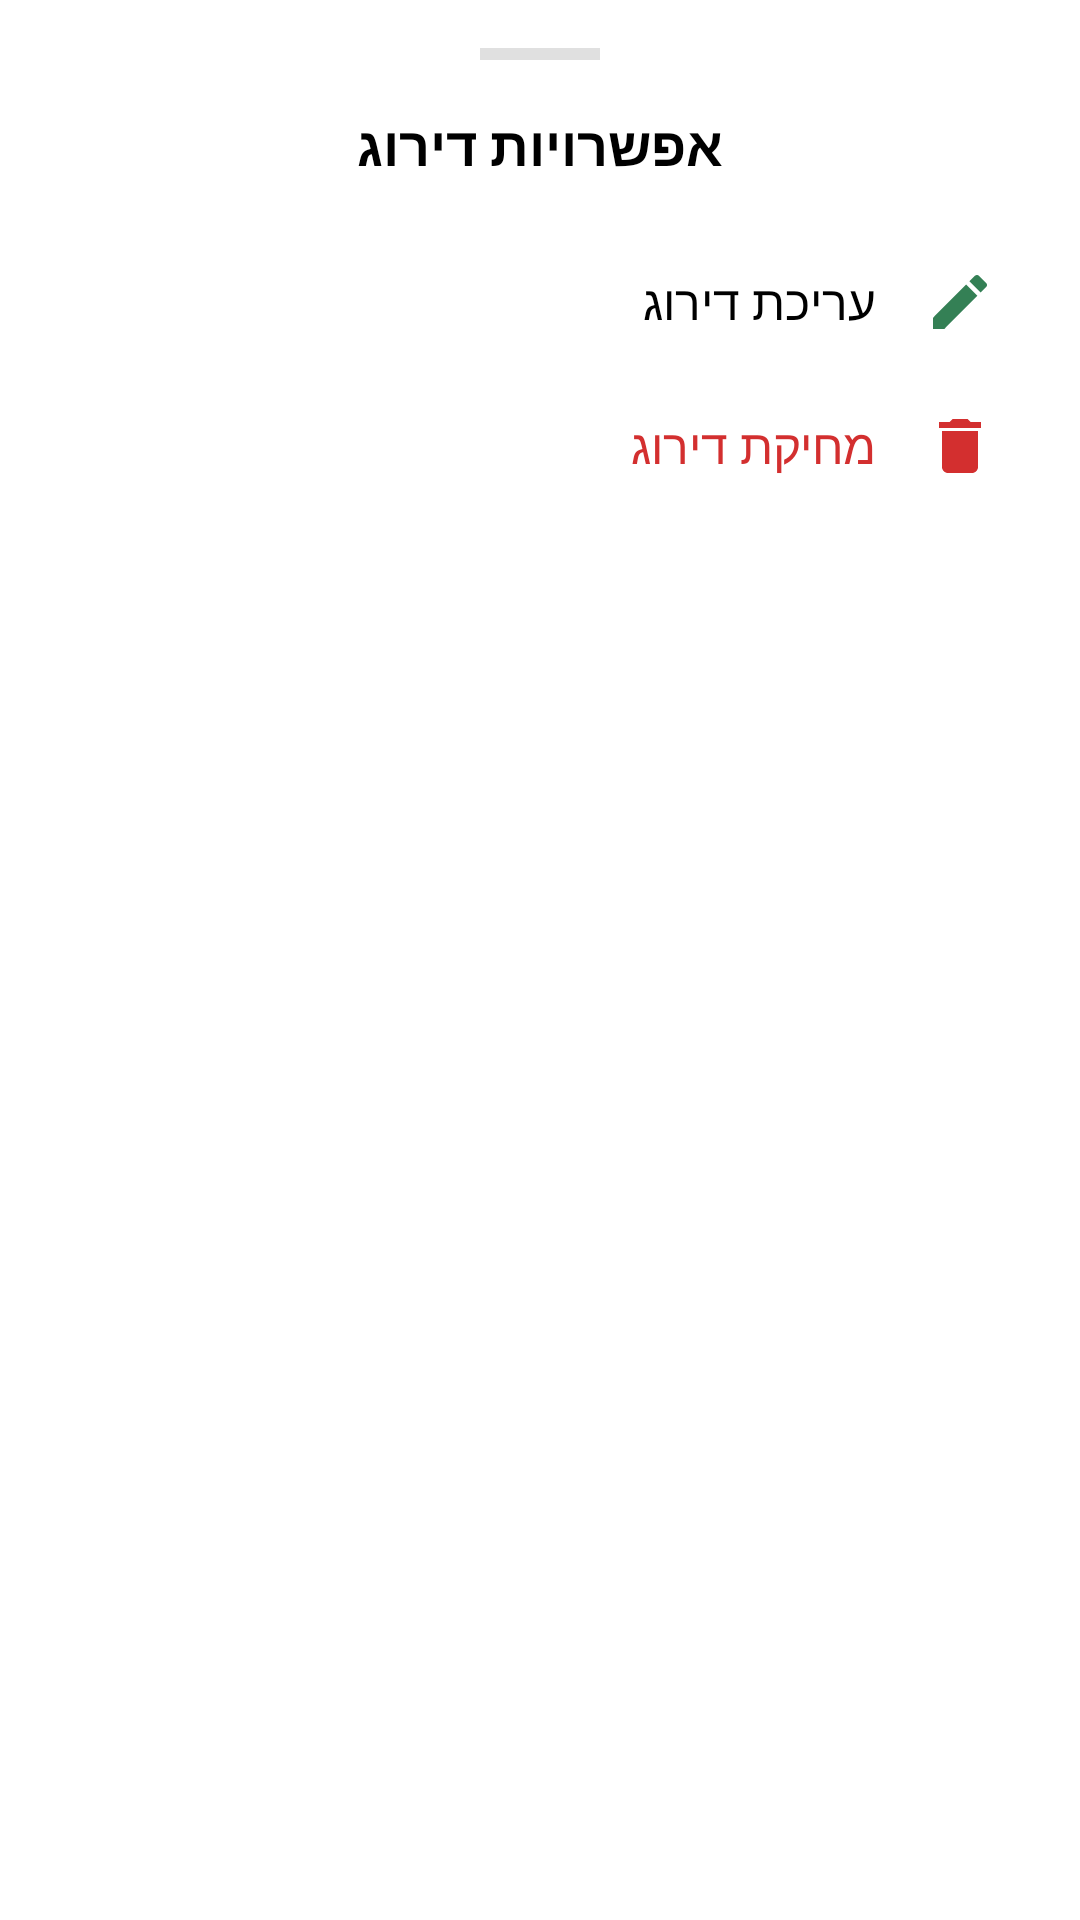

Icon bounding boxes for this 1080px x 1920px phone screenshot, format (x1, y1, x2, y2):
delete: (939, 419, 981, 473)
edit: (933, 275, 987, 329)
